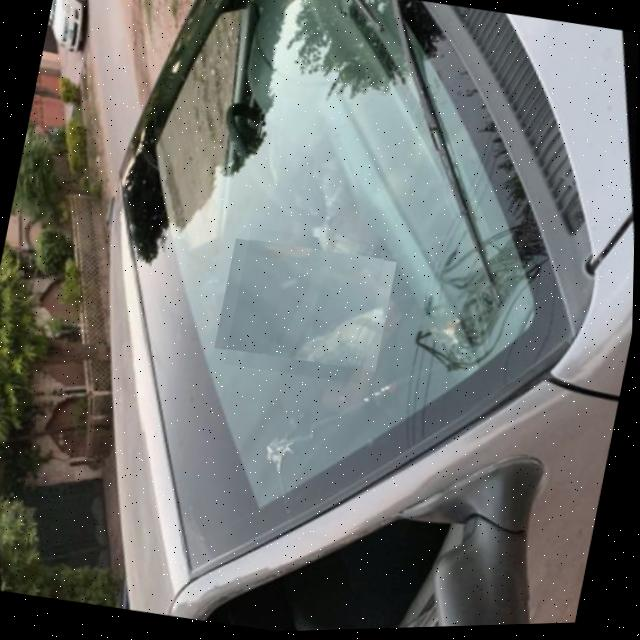seatbelt: (224, 225, 387, 389)
